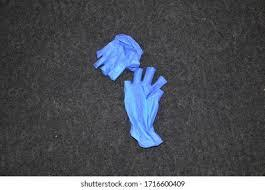Glove: (124, 67, 166, 147), (94, 34, 142, 79)
